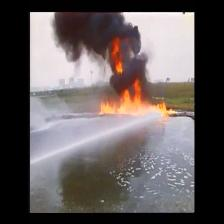fire: (101, 80, 184, 115)
smoke: (56, 11, 149, 92)
